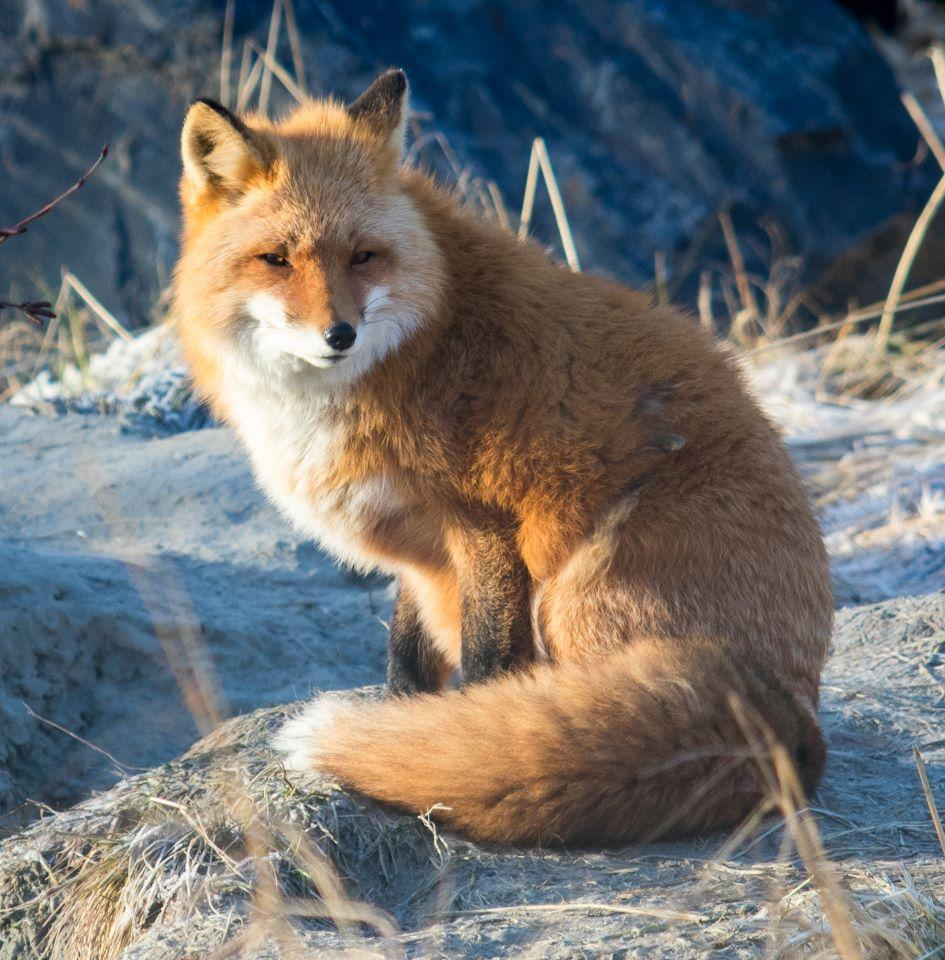fox: (60, 46, 882, 960)
